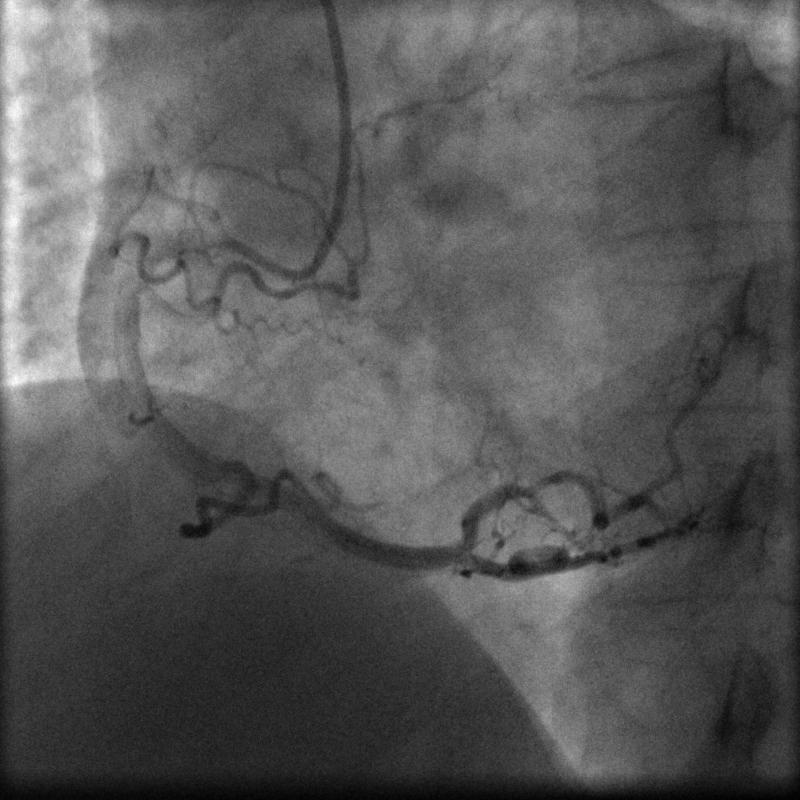Stenosis: (503, 472, 557, 505)
